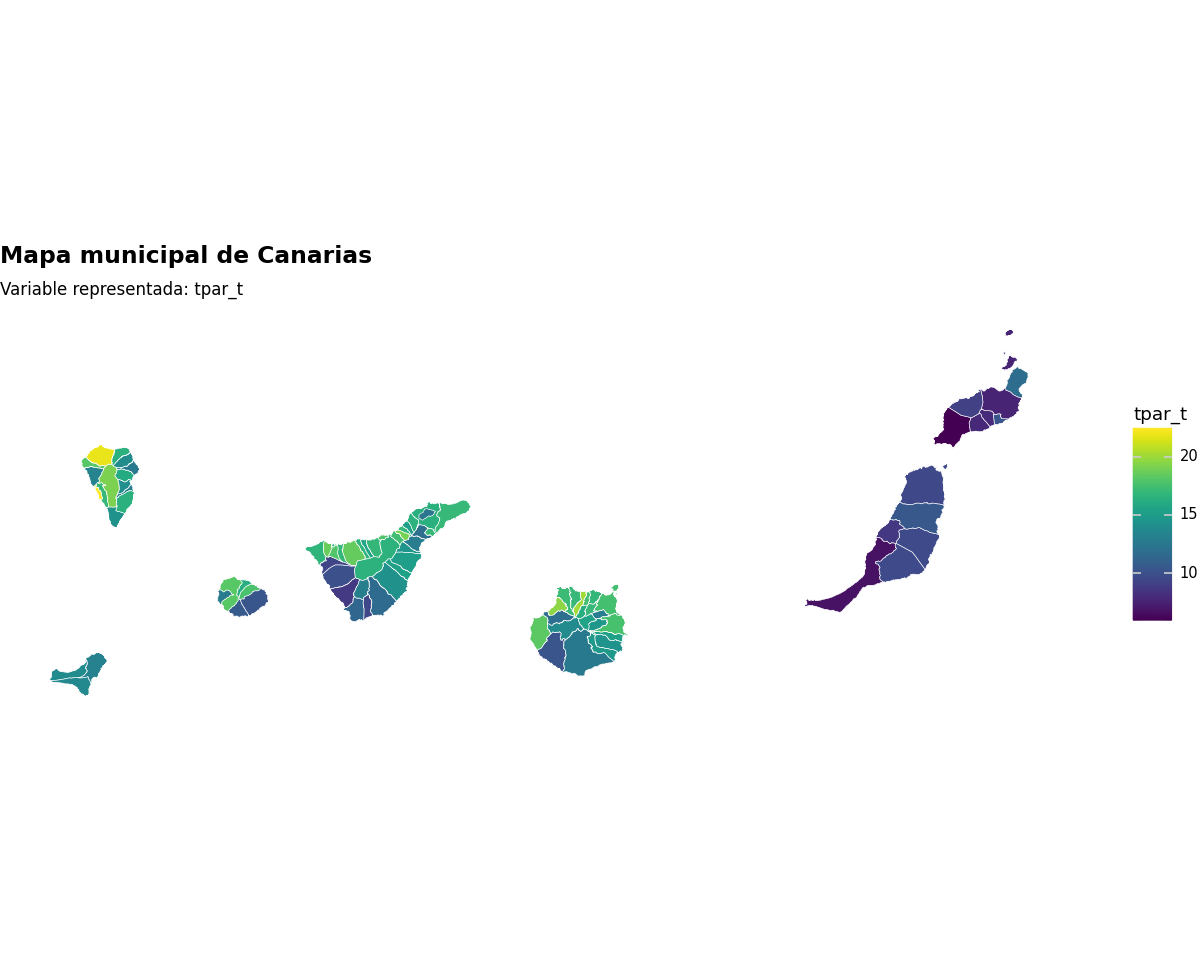

The dashboard page shown, as its layout file describes it:
{"tool":"powerbi","page":{"name":"Página 1","canvas":[1280,720],"ordinal":0},"visuals":[{"type":"shapeMap","title":"Mapa Municipal Canarias","fields":{"Category":["Municipios-2024.label"],"Value":["Sum(Municipios-2024.valor)"]},"box":[9.7,0,1117.2,650.3],"z":0}]}

Visuals, with their boxes on the page's 1280x720 design canvas (x1, y1, x2, y2). These are canvas units, not pixel positions in the 1200x960 screenshot, which may show the page scaled, cropped or inside an application window:
"Mapa Municipal Canarias" shapeMap: {"x1": 10, "y1": 0, "x2": 1127, "y2": 650}
